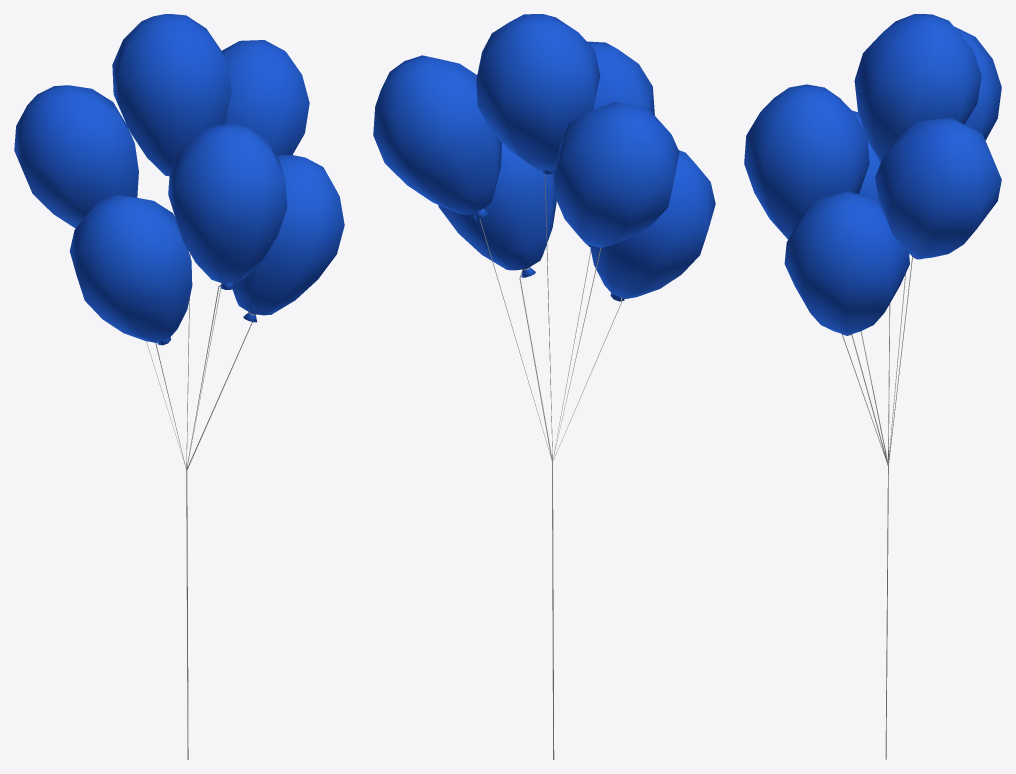
Rendered from BalloonBunchBlue.glb.
The picture shows the model from 3 angles, left to right: view 1: azimuth 30°, elevation 25°; view 2: azimuth 150°, elevation 25°; view 3: azimuth 270°, elevation 25°; orthographic projection. The views are drawn at different scales.
Parts seen in each view (by area): view 1: BalloonBunchBlue; view 2: BalloonBunchBlue; view 3: BalloonBunchBlue.
Part boxes in pixels (x1,y1,x2,y2): BalloonBunchBlue: [14, 14, 344, 759]; BalloonBunchBlue: [373, 14, 715, 759]; BalloonBunchBlue: [744, 14, 1001, 759].
Size of the model in its own units: 1.32 by 3.26 by 1.03.
Materials: 1 (1 with a texture image).
